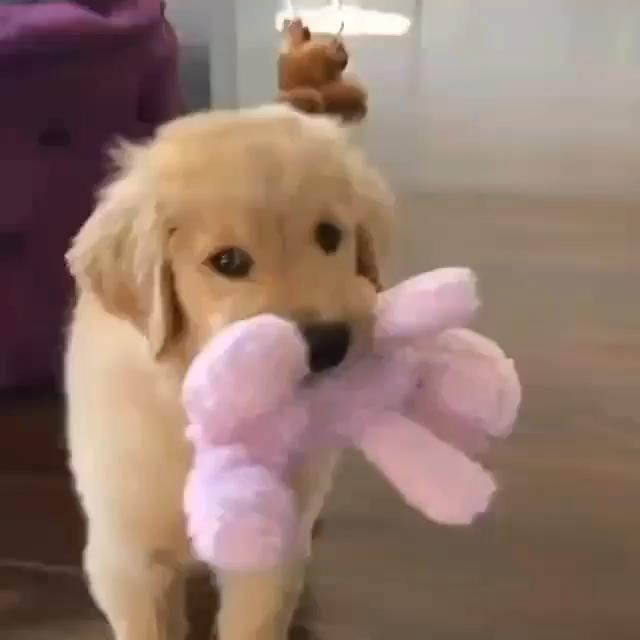puppy-dog: (61, 111, 391, 640)
